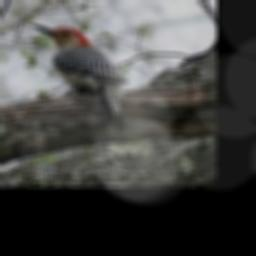Woodpecker: (30, 23, 128, 125)
